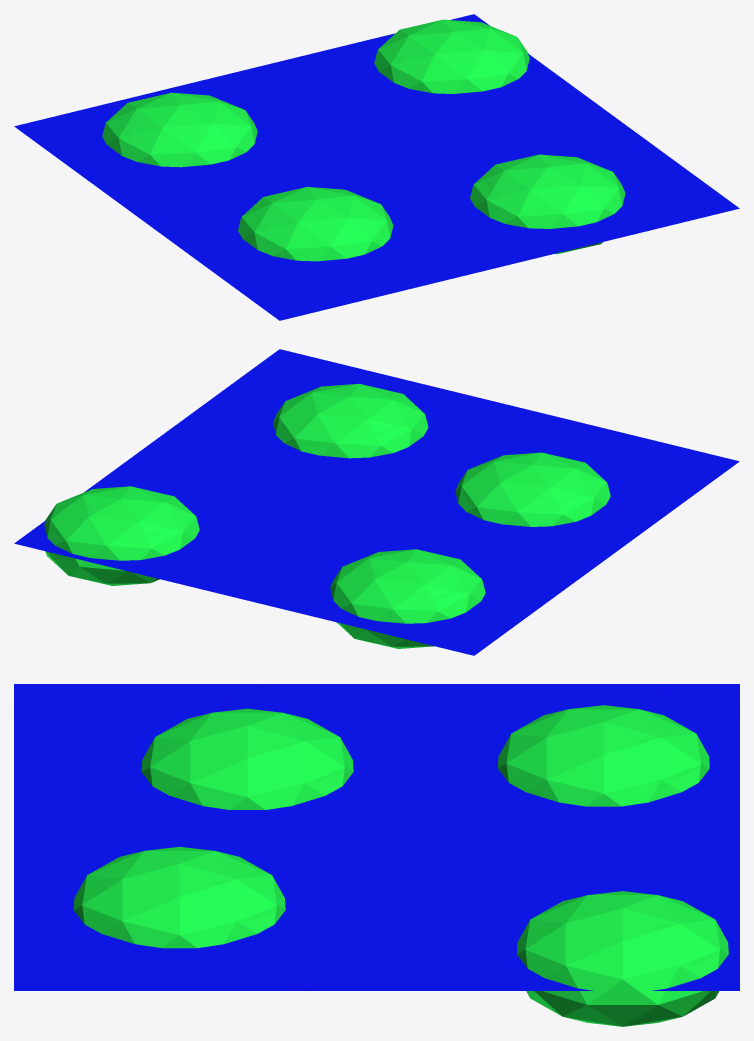
The model's file is scena.gltf.
The picture shows the model from 3 angles, top to bottom: view 1: azimuth 30°, elevation 25°; view 2: azimuth 150°, elevation 25°; view 3: azimuth 270°, elevation 25°; orthographic projection. The views are drawn at different scales.
Parts seen in each view (by area): view 1: Plane, Icosphere.001, Icosphere, Icosphere.002, Icosphere.003; view 2: Plane, Icosphere, Icosphere.002, Icosphere.003, Icosphere.001; view 3: Plane, Icosphere, Icosphere.001, Icosphere.002, Icosphere.003.
Boxes of the visible parts, bbox=[...] form: Plane: bbox=[14, 14, 739, 320]; Icosphere.001: bbox=[470, 154, 625, 254]; Icosphere: bbox=[374, 19, 529, 93]; Icosphere.002: bbox=[102, 92, 257, 167]; Icosphere.003: bbox=[238, 187, 393, 261]; Plane: bbox=[14, 349, 739, 655]; Icosphere: bbox=[44, 486, 199, 585]; Icosphere.002: bbox=[330, 549, 485, 648]; Icosphere.003: bbox=[455, 452, 610, 526]; Icosphere.001: bbox=[273, 383, 428, 458]; Plane: bbox=[14, 684, 739, 990]; Icosphere: bbox=[516, 891, 728, 1026]; Icosphere.001: bbox=[73, 846, 285, 948]; Icosphere.002: bbox=[497, 705, 709, 806]; Icosphere.003: bbox=[141, 708, 353, 809].
Bounding box in the file's own units: 20.19 × 3.09 × 20.
2 materials, 2 textured.
